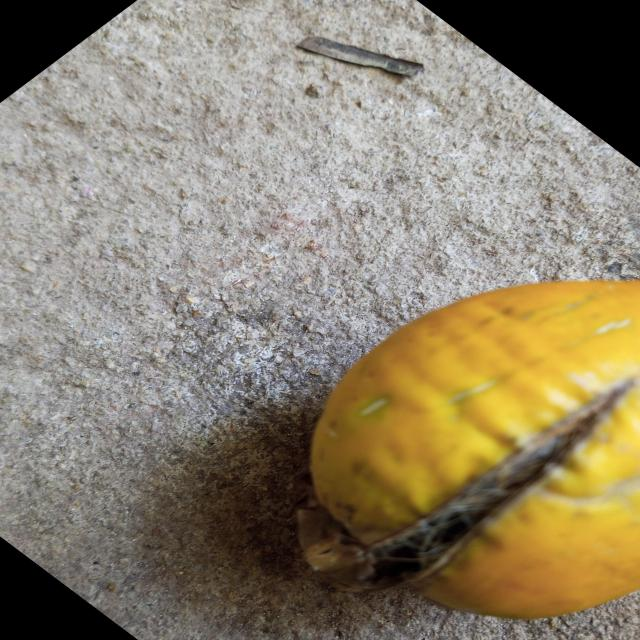damaged: (307, 280, 640, 622)
